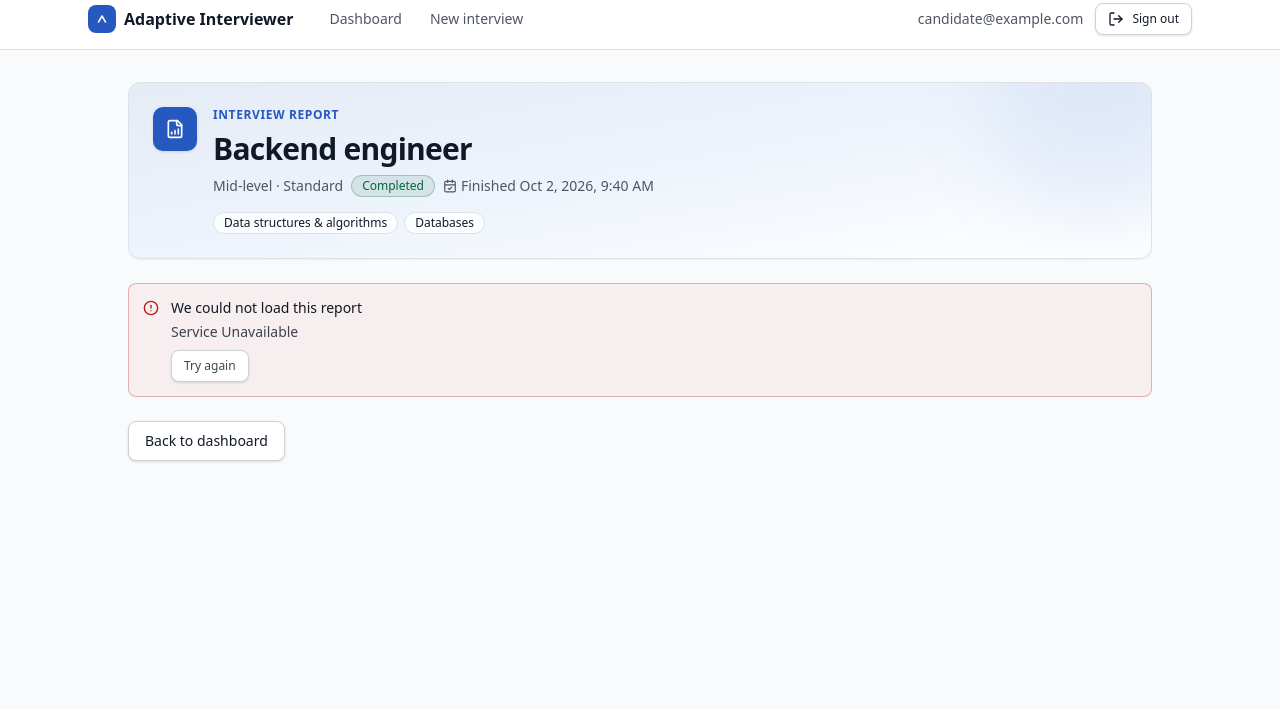
Test case: report screen › shows a retryable error when the report cannot be fetched
The image size is (1280, 709).
Expected: the text "We could not load this report" is shown, [171,298,362,318]
Click the button "Try again" at (210, 366), box [171,350,249,382]
(page scrolled)
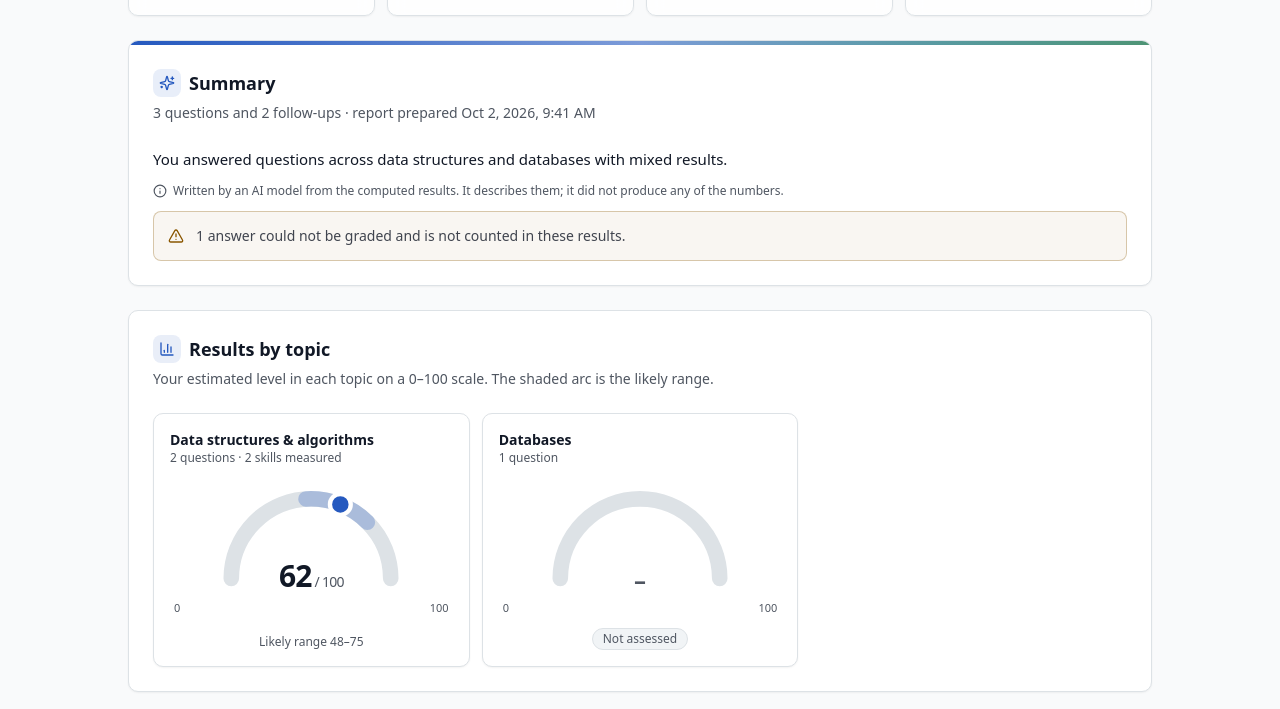
Result: the heading "Results by topic" is shown at [153,335,330,363]
